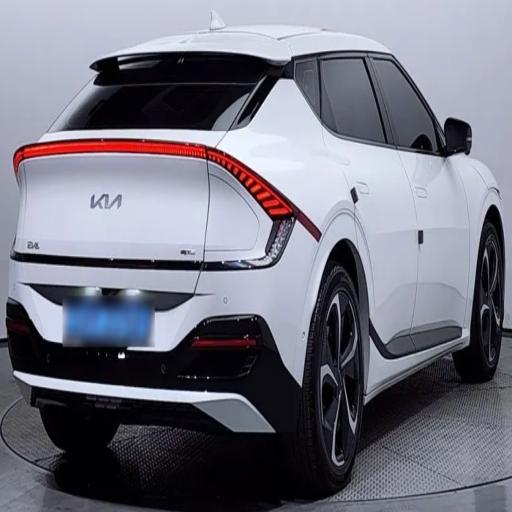normal: (7, 4, 507, 492)
